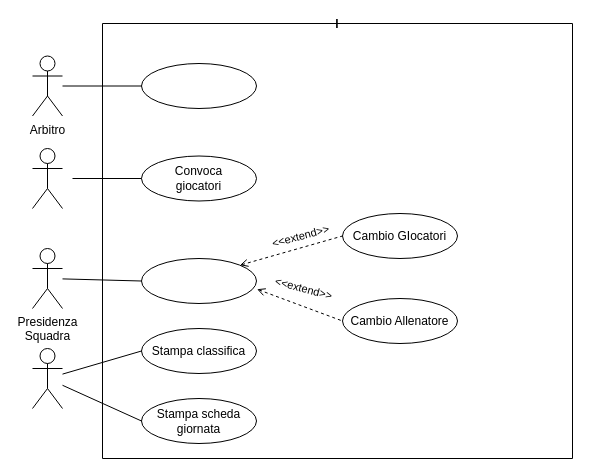
Some shapes in this 590 by 476 pixel diagram are drawn without their labels. Each missing label, with the box of its shape:
Allenatore: (32, 148, 62, 208)
FIGC: (32, 348, 62, 408)
Gestione mercato: (140, 258, 256, 304)
Memorizza risultato: (140, 62, 256, 108)
